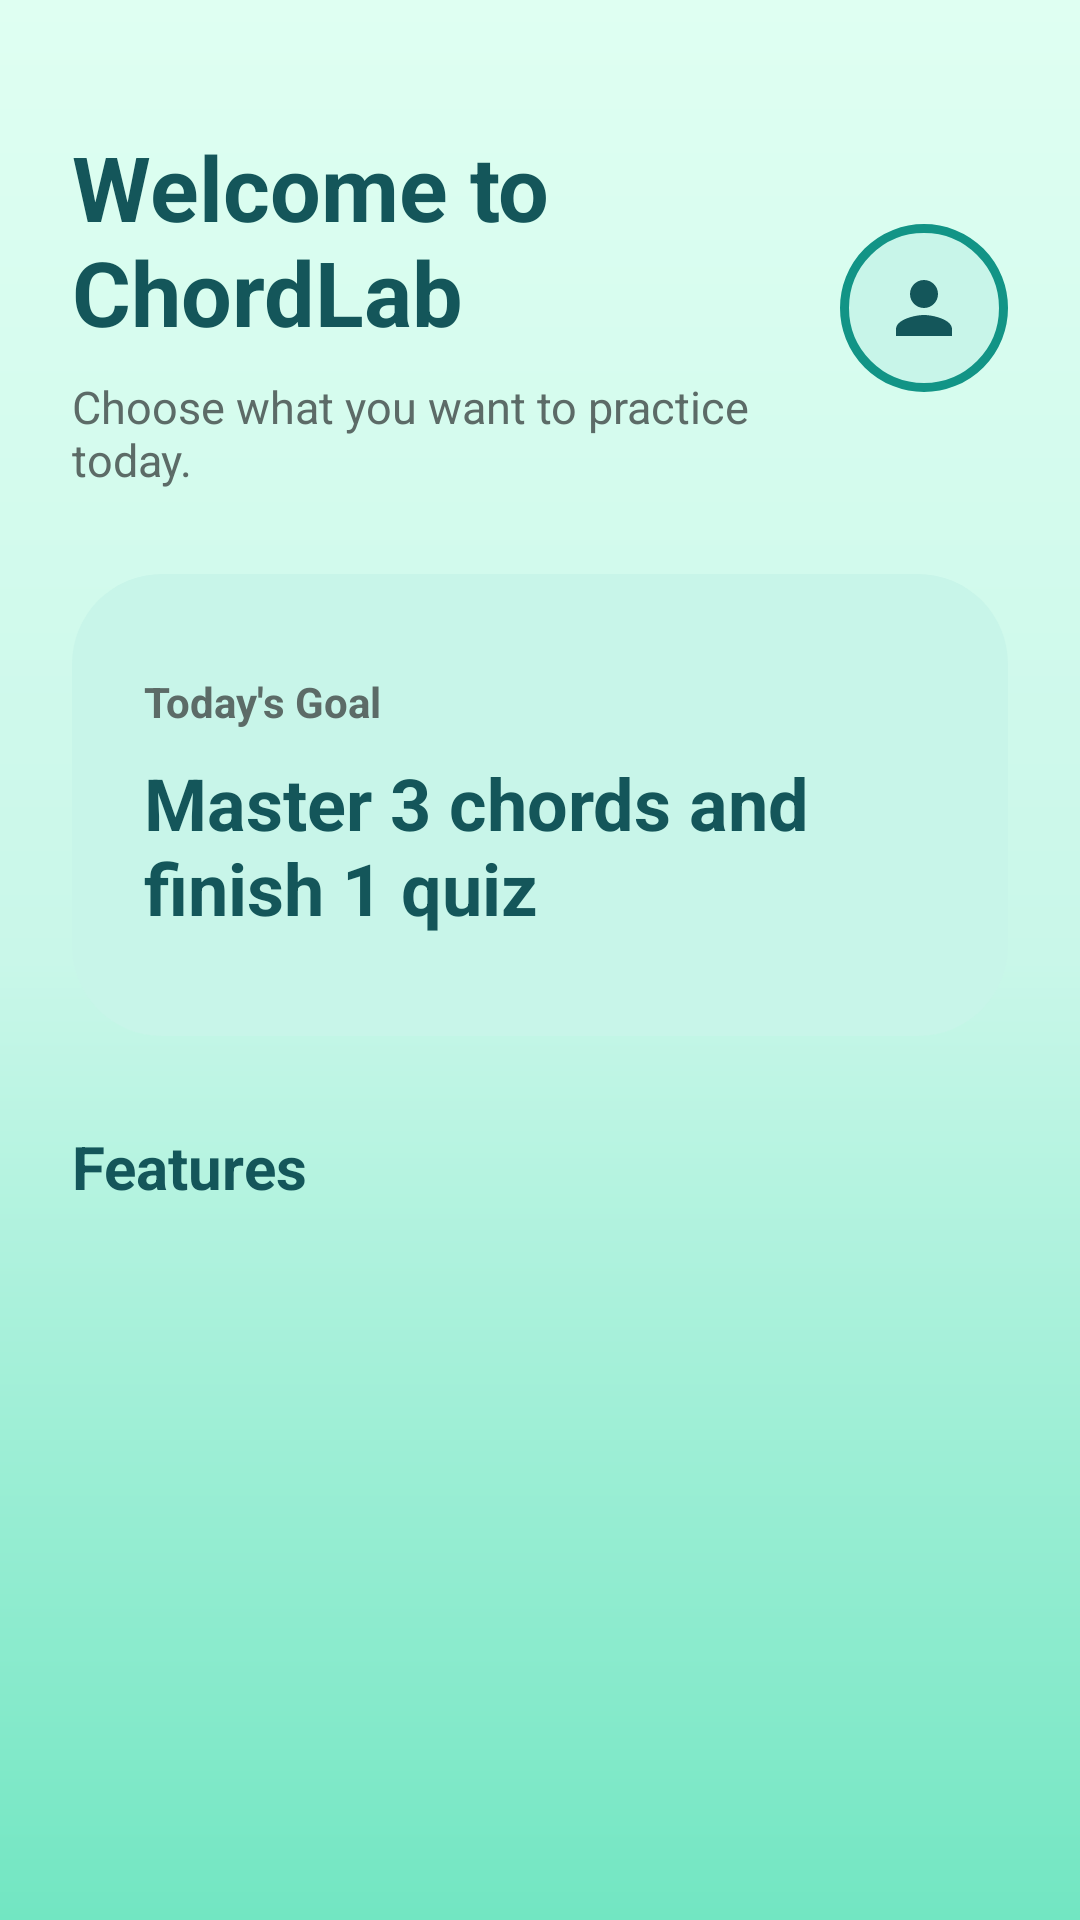

Icon bounding boxes for this 1080 x 1920 phone screenshot, format (x1, y1, x2, y2):
profile head: (896, 280, 952, 336)
